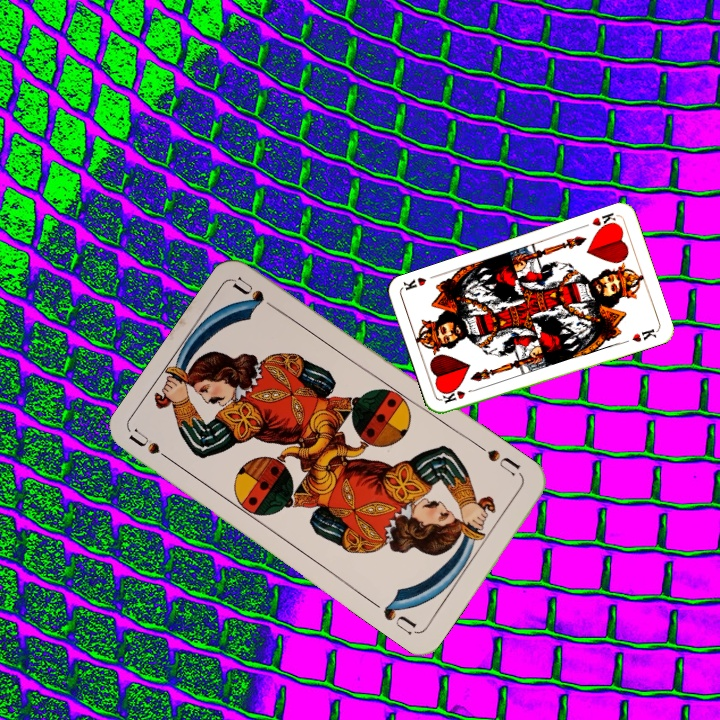HK: (438, 384, 479, 406), (588, 208, 620, 233)
SU: (126, 426, 180, 468), (474, 441, 526, 481)
